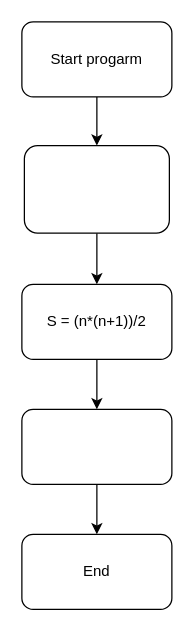
The diagram is 194 pixels wide and 631 high, and some of its shapes have lost their labels. The shapes that lost their labels are listed below. From the top down, each one's box as (x1, y1, x2, y2) in pixels, then its label:
(23, 144, 169, 233): Initialize n = 1000 S is sum of n from 1 to 1000 S = 0
(21, 408, 172, 484): Print out S
